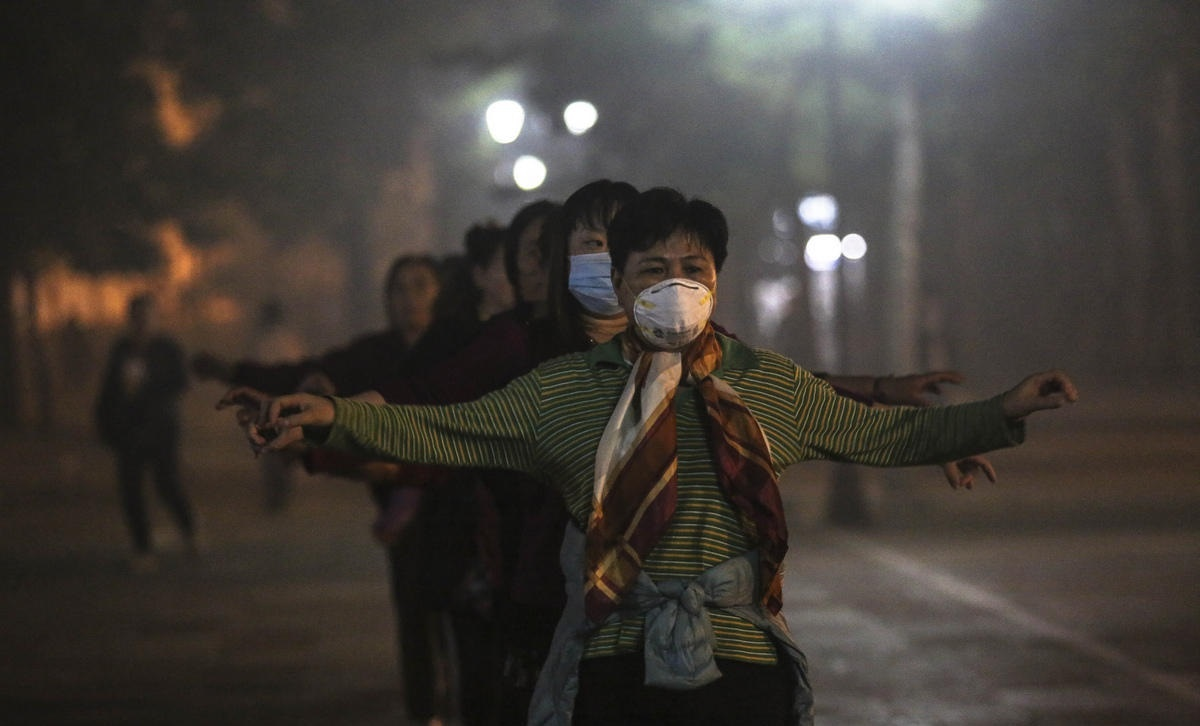Mask: (618, 245, 720, 347)
